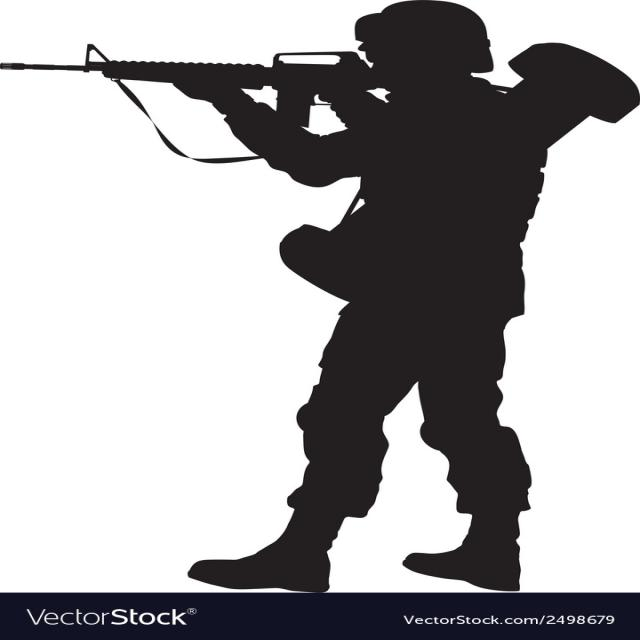soldier: (9, 5, 640, 594)
